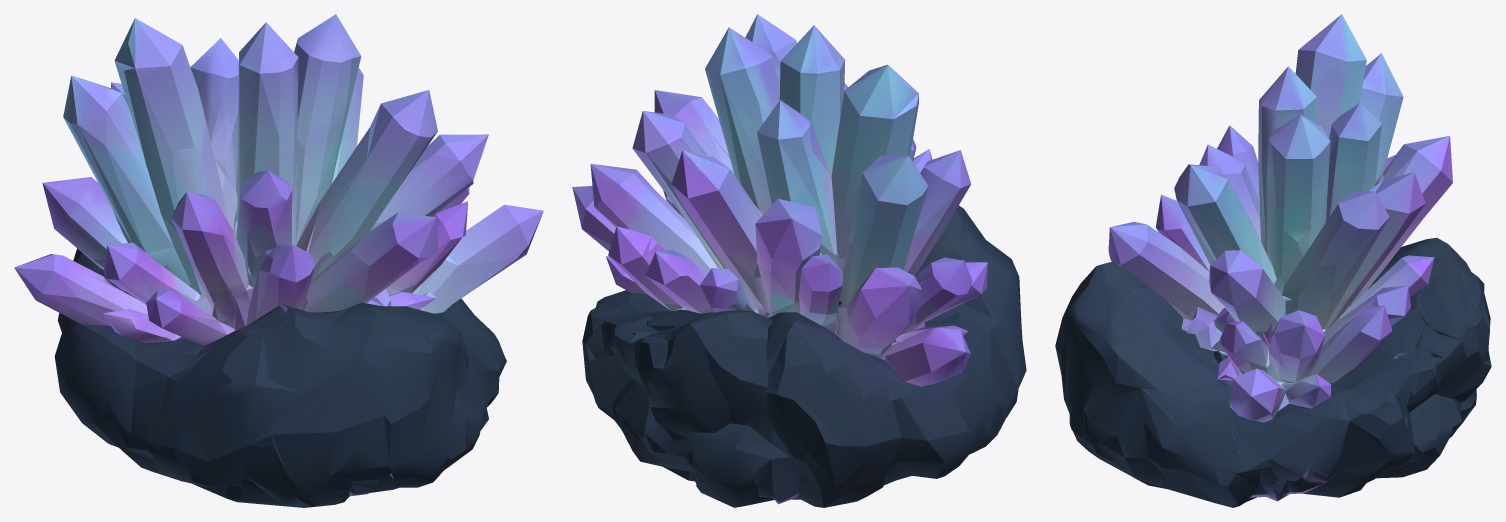
Rendered from crystal.glb.
3 renders of one model, left to right at view 1: azimuth 30°, elevation 25°; view 2: azimuth 150°, elevation 25°; view 3: azimuth 270°, elevation 25°, orthographic. The views are drawn at different scales.
Size of the model in its own units: 1.89 by 1.64 by 1.71.
1 material, 1 textured.
